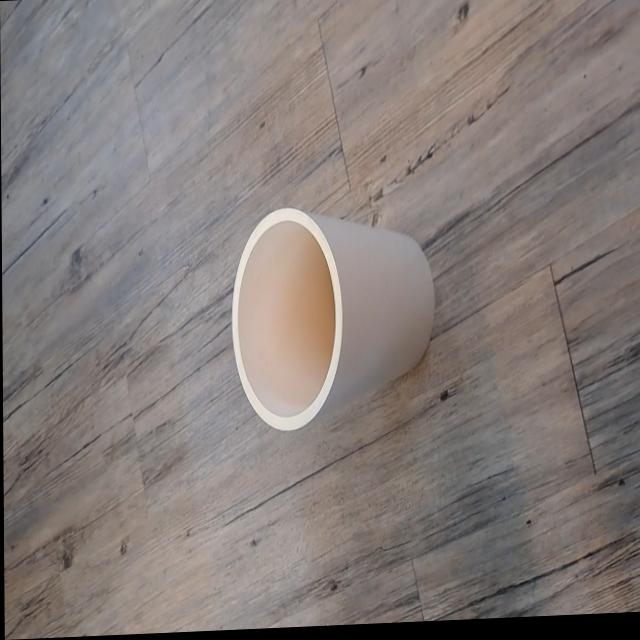CORAL: (213, 175, 467, 452)
